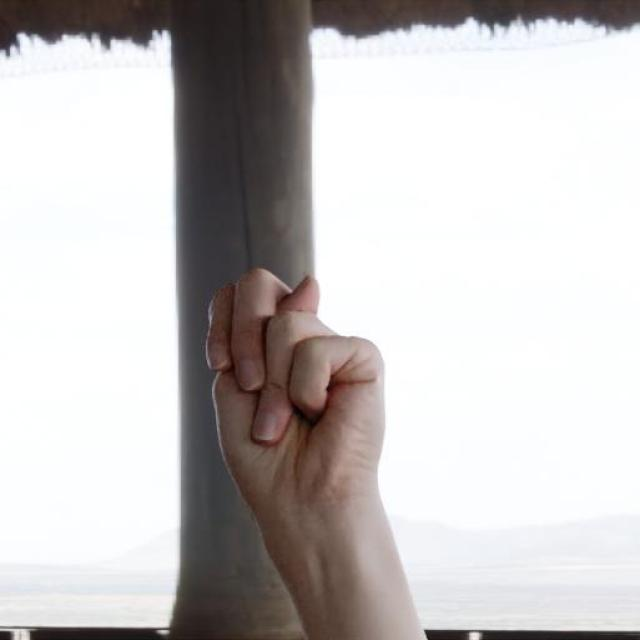N: (201, 264, 392, 525)
